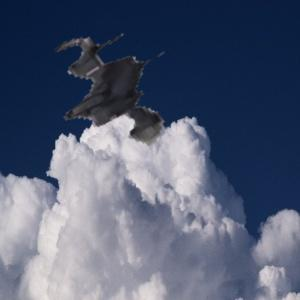drone: (55, 4, 209, 158)
